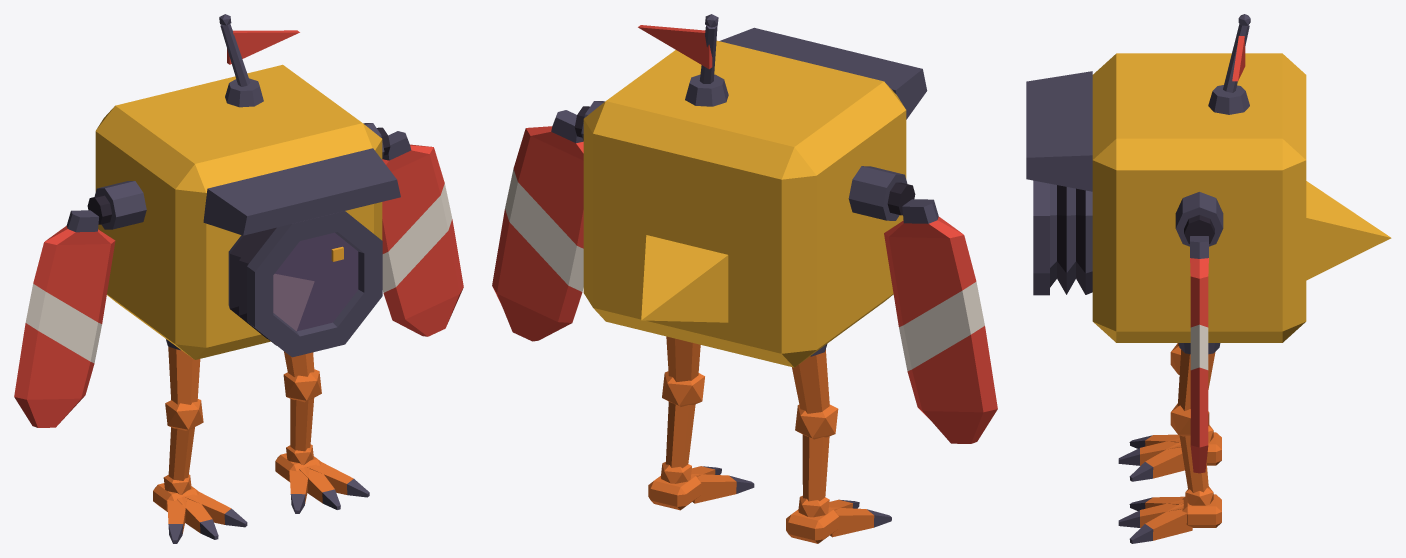
Rendered from pip.glb.
3 renders of one model, left to right at view 1: azimuth 30°, elevation 25°; view 2: azimuth 150°, elevation 25°; view 3: azimuth 270°, elevation 25°, orthographic. The views are drawn at different scales.
Parts seen in each view (by area): view 1: body, lens, wing_l, wing_r, brow, leg_r_foot, leg_l_foot, wing_l_hinge, leg_l_shin, leg_r_shin, lens_bellows, leg_l (+3 smaller); view 2: body, wing_l, wing_r, brow, leg_l_foot, leg_r_foot, wing_l_hinge, leg_l_shin, leg_r_shin, leg_l, pennant, leg_r (+1 smaller); view 3: body, brow, wing_r, lens_bellows, leg_r_foot, leg_l_foot, wing_r_hinge, lens, leg_r_shin, leg_r, mast.
Part boxes in pixels (<box>): body: <box>95,64,382,359</box>; lens: <box>247,211,382,357</box>; wing_l: <box>14,210,115,427</box>; wing_r: <box>382,131,463,336</box>; brow: <box>203,148,400,235</box>; leg_r_foot: <box>275,444,369,513</box>; leg_l_foot: <box>153,474,247,543</box>; wing_l_hinge: <box>87,181,146,229</box>; leg_l_shin: <box>165,399,203,480</box>; leg_r_shin: <box>283,369,321,451</box>; lens_bellows: <box>228,227,276,345</box>; leg_l: <box>168,346,200,404</box>; body: <box>583,40,906,367</box>; wing_l: <box>884,199,997,443</box>; wing_r: <box>492,110,583,341</box>; brow: <box>719,27,927,119</box>; leg_l_foot: <box>786,495,891,543</box>; leg_r_foot: <box>648,462,754,510</box>; wing_l_hinge: <box>848,166,915,220</box>; leg_l_shin: <box>795,404,838,501</box>; leg_r_shin: <box>662,371,704,468</box>; leg_l: <box>792,349,829,413</box>; pennant: <box>638,25,712,69</box>; leg_r: <box>666,336,700,381</box>; body: <box>1092,53,1391,354</box>; brow: <box>1026,71,1092,191</box>; wing_r: <box>1190,236,1208,473</box>; lens_bellows: <box>1050,183,1092,294</box>; leg_r_foot: <box>1118,486,1221,543</box>; leg_l_foot: <box>1118,425,1221,481</box>; wing_r_hinge: <box>1175,192,1223,246</box>; lens: <box>1033,180,1049,295</box>; leg_r_shin: <box>1170,403,1209,492</box>; leg_r: <box>1177,349,1215,410</box>; mast: <box>1223,14,1250,92</box>.
Size of the model in its own units: 4.56 by 4.5 by 3.08.
